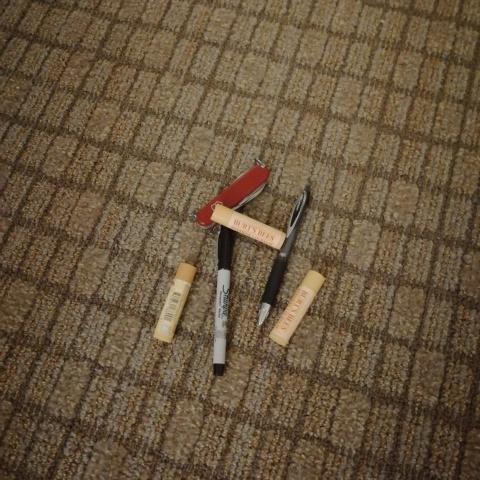chapstick: (268, 268, 326, 347), (152, 261, 197, 344), (209, 203, 287, 250)
